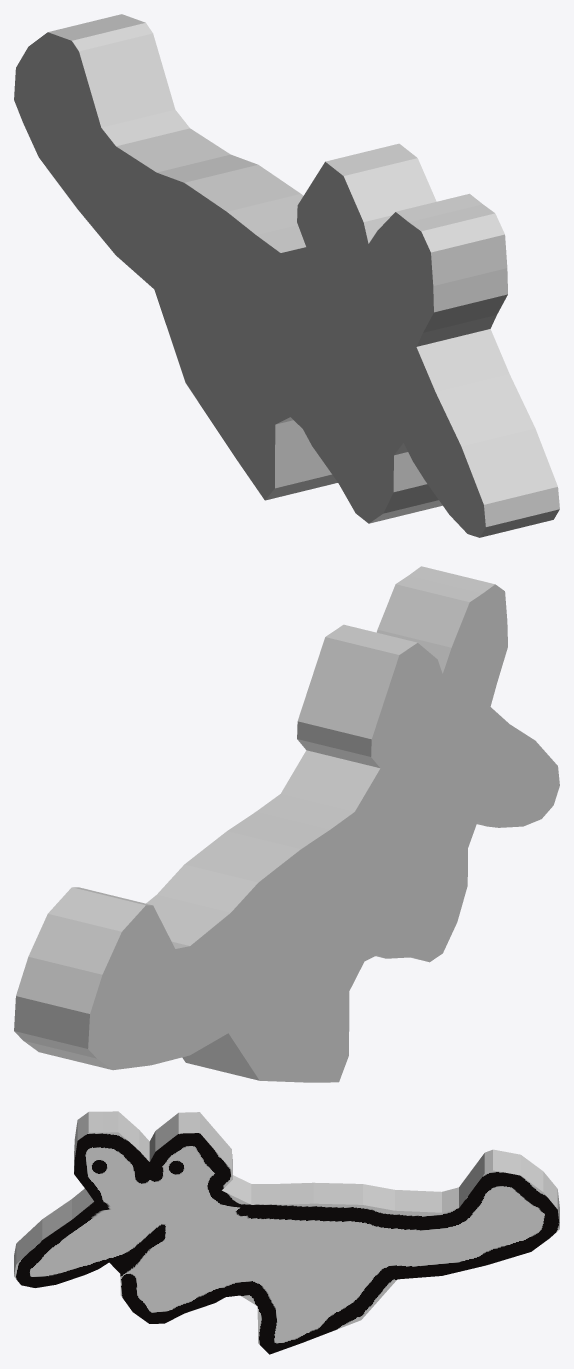
The model's file is KyouryuuNanokaWaninanoka.fbx.
The picture shows the model from 3 angles, top to bottom: view 1: azimuth 30°, elevation 25°; view 2: azimuth 150°, elevation 25°; view 3: azimuth 270°, elevation 25°; orthographic projection. The views are drawn at different scales.
Visible parts, largest first — view 1: Plane; view 2: Plane; view 3: Plane.
Part boxes in pixels (<box>): Plane: <box>14,14,559,537</box>; Plane: <box>14,566,559,1082</box>; Plane: <box>14,1111,559,1354</box>.
Size of the model in its own units: 55.64 by 276 by 614.
2 materials, 1 textured.
